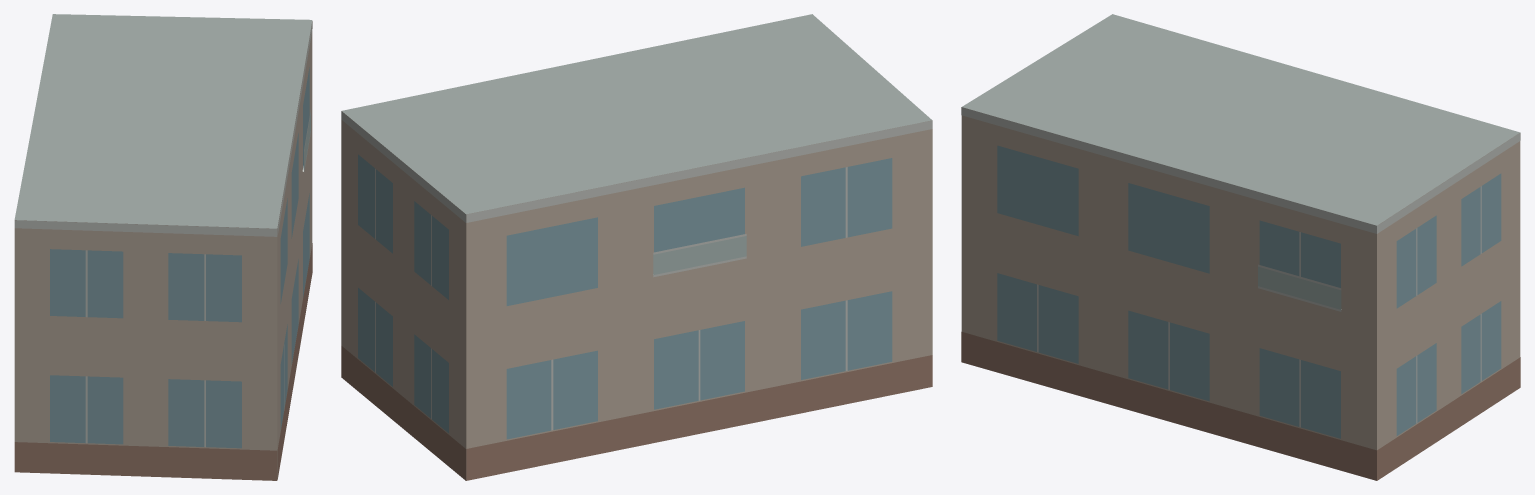
The model's file is survey-upis-32731727.glb.
3 renders of one model, left to right at view 1: azimuth 30°, elevation 25°; view 2: azimuth 150°, elevation 25°; view 3: azimuth 270°, elevation 25°, orthographic. The views are drawn at different scales.
Visible parts, largest first — view 1: survey-upis-32731727.tmp; view 2: survey-upis-32731727.tmp; view 3: survey-upis-32731727.tmp.
Boxes of the visible parts, x1=… form: survey-upis-32731727.tmp: x1=14, y1=14, x2=312, y2=480; survey-upis-32731727.tmp: x1=341, y1=14, x2=932, y2=480; survey-upis-32731727.tmp: x1=961, y1=14, x2=1520, y2=480.
Bounding box in the file's own units: 13.35 × 7.5 × 14.9.
